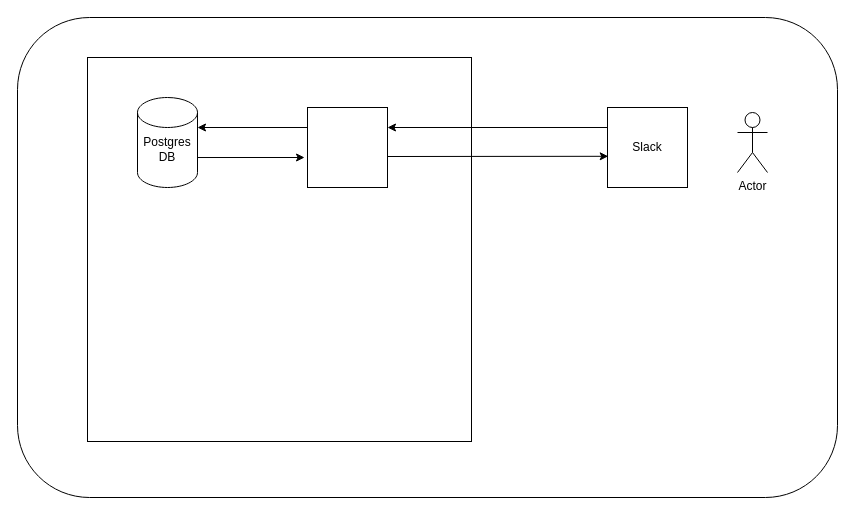
This 855x515 diagram has some shape labels left out. Each missing label, with the box of its shape:
Heroku: (86, 56, 472, 442)
Python bolt: (306, 106, 388, 188)
